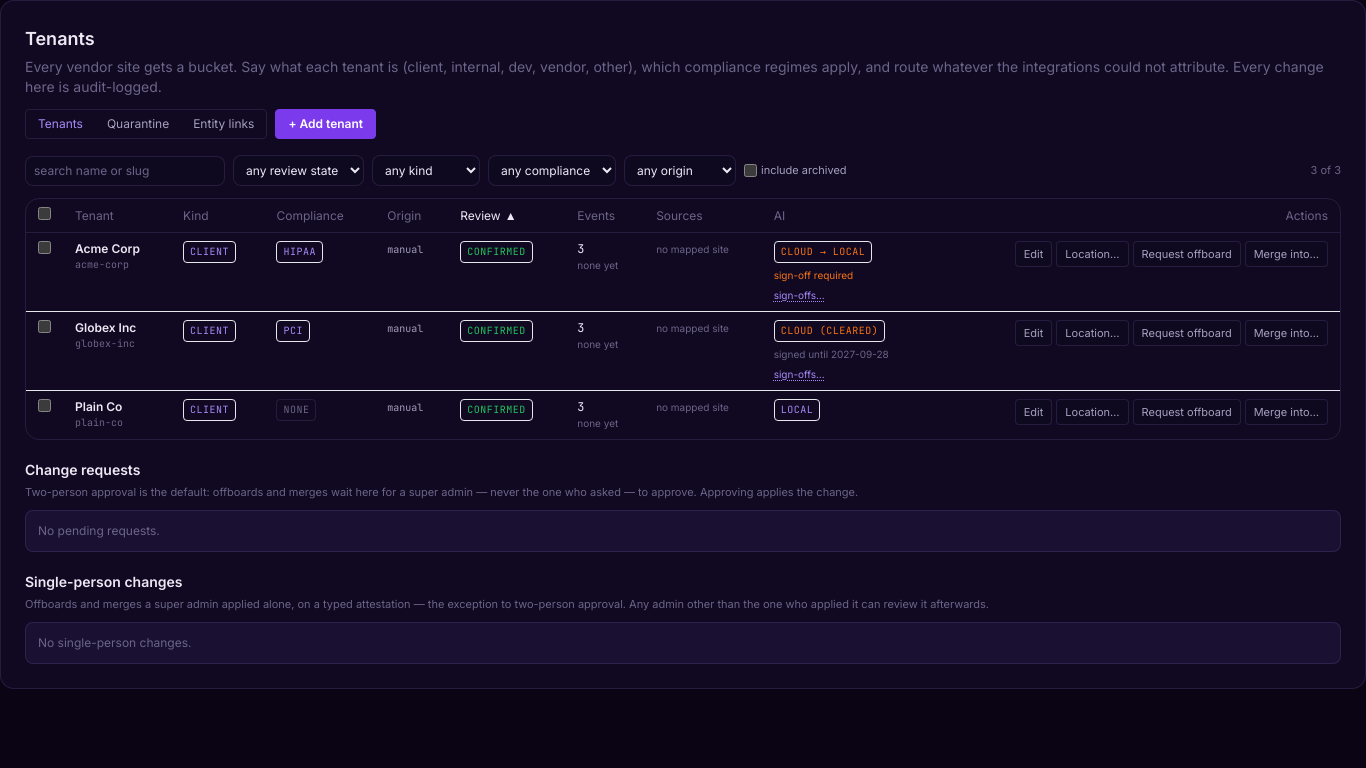
TenantsTab — AI column › an admin never gets Sign off…; the history opens read-only
Click the button "sign-offs…" below "sign-off required".
click(799, 295)  # box x1=774 y1=287 x2=825 y2=303
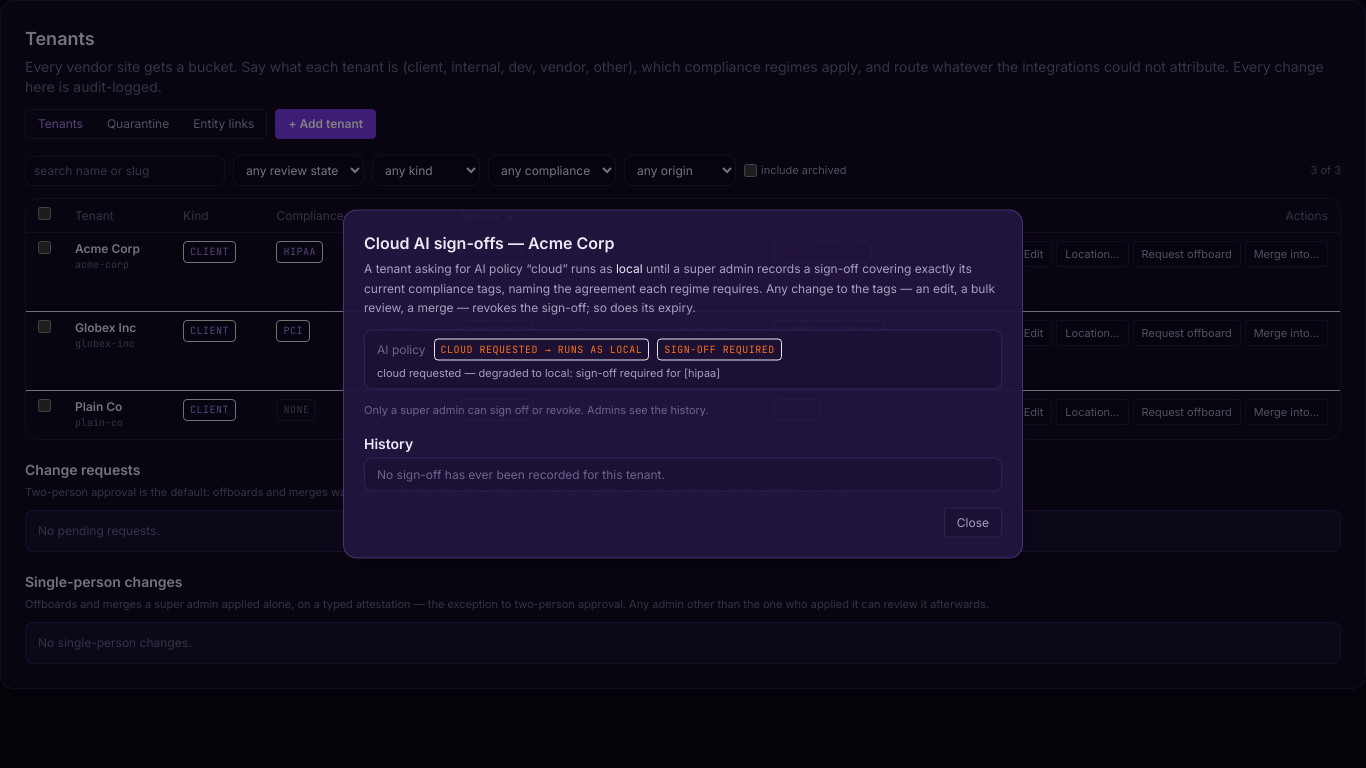
expect the text with test id "signoff-readonly" is shown: met, box x1=364 y1=402 x2=709 y2=416
expect the text "No sign-off has ever been recorded for this tenant." is shown: met, box x1=364 y1=458 x2=1002 y2=492
Click the button "Close".
click(973, 522)  # box x1=944 y1=508 x2=1002 y2=538
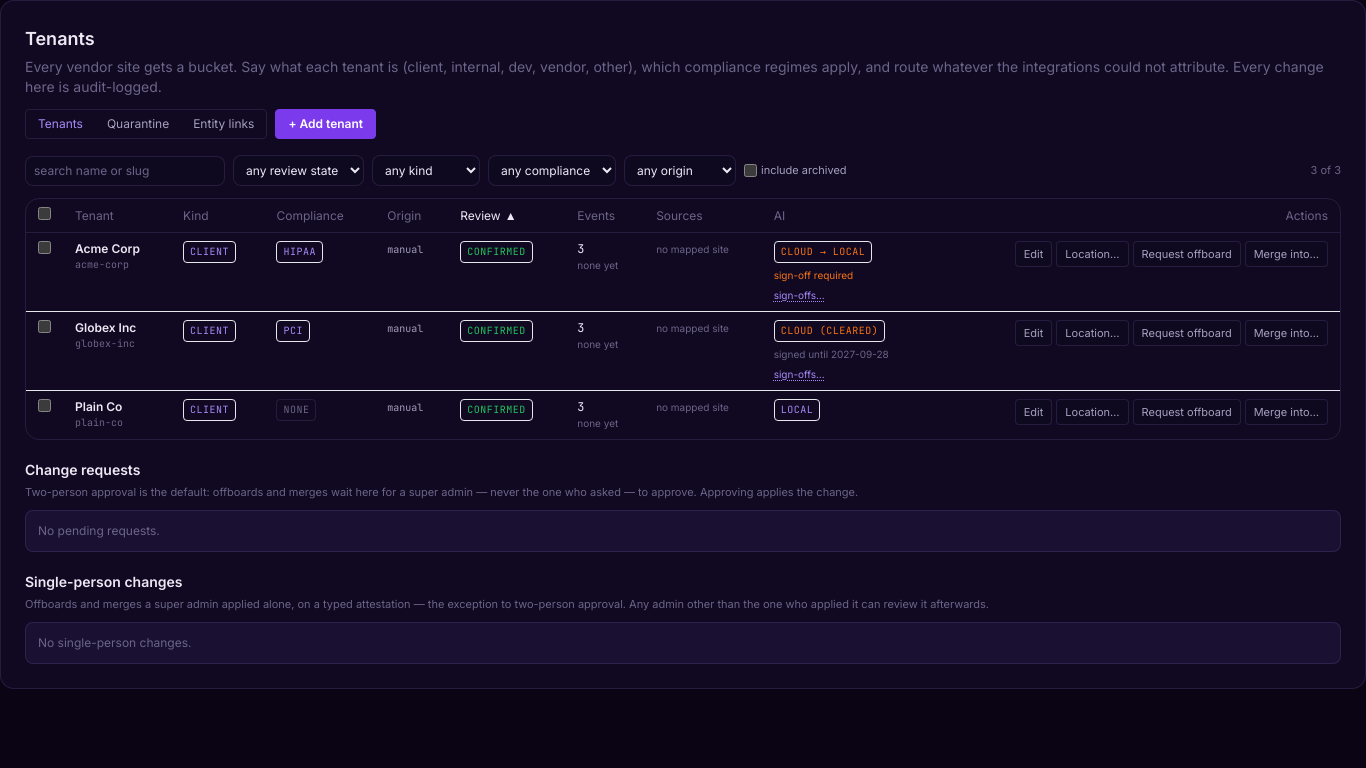
Click the button with test id "signoffs-globex-inc".
click(799, 374)  # box x1=774 y1=366 x2=825 y2=382
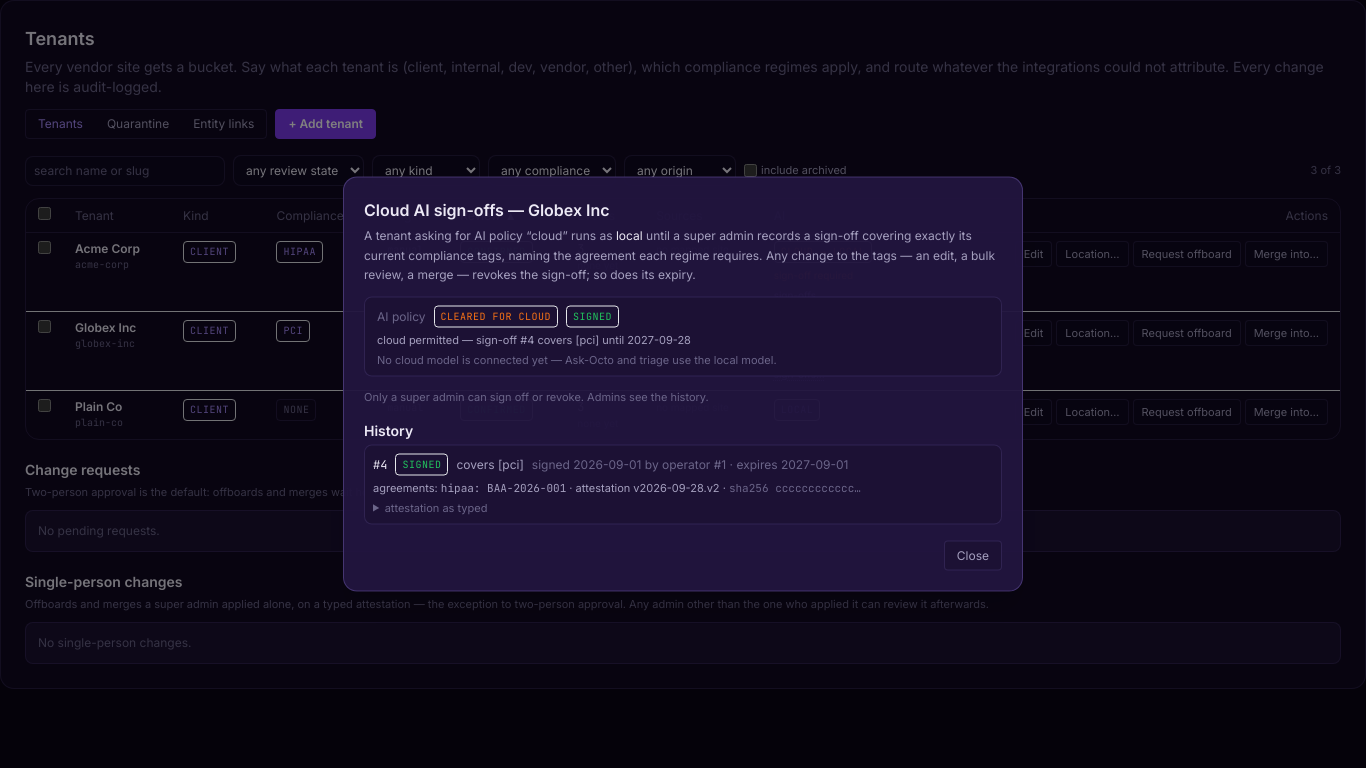
expect the list item with test id "signoff-row-4" is shown: met, box x1=364 y1=444 x2=1002 y2=524
expect the text with test id "signoff-row-state-4" reads "signed": met, box x1=402 y1=458 x2=441 y2=470
expect the text with test id "signoff-row-agreements-4" reads "hipaa: BAA-2026-001": met, box x1=441 y1=480 x2=566 y2=494
